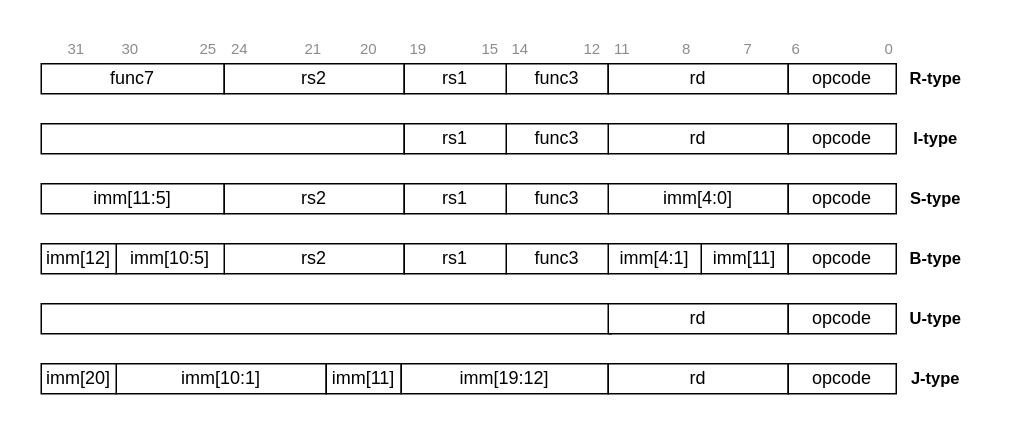
This 1011x434 diagram has some shape labels left out. The centre of each missing label's shape, as x and y in pixels:
"imm[11:0]" belongs at (x=222, y=138).
"imm[31:12]" belongs at (x=325, y=318).
